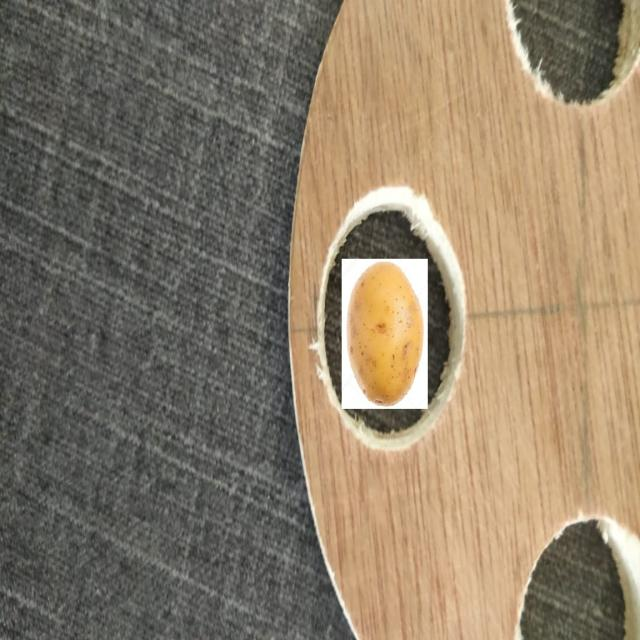potato: (346, 264, 422, 404)
